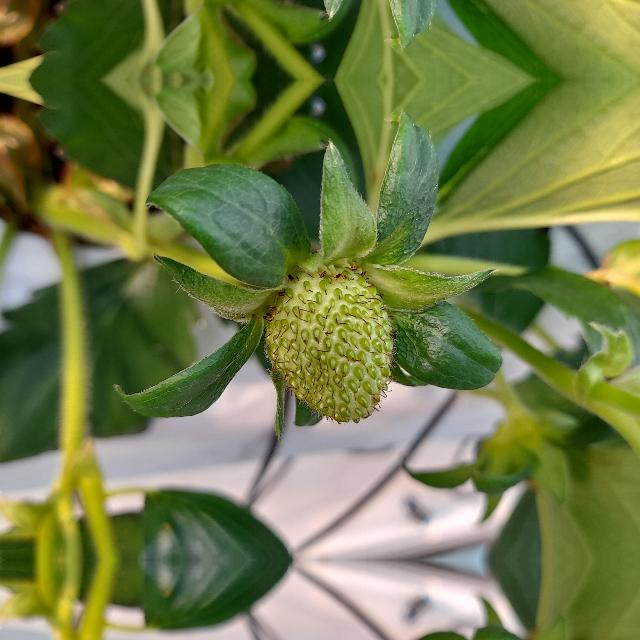Health_25: (262, 266, 398, 426)
